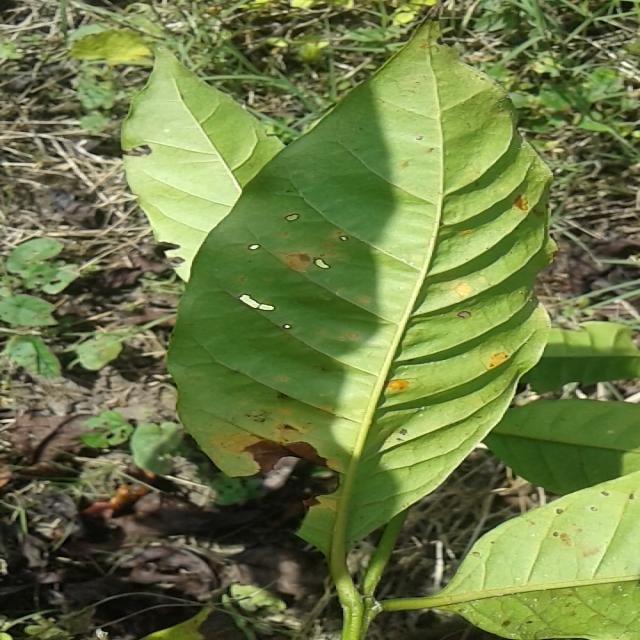Enfermedad-Roya: (166, 26, 553, 578)
